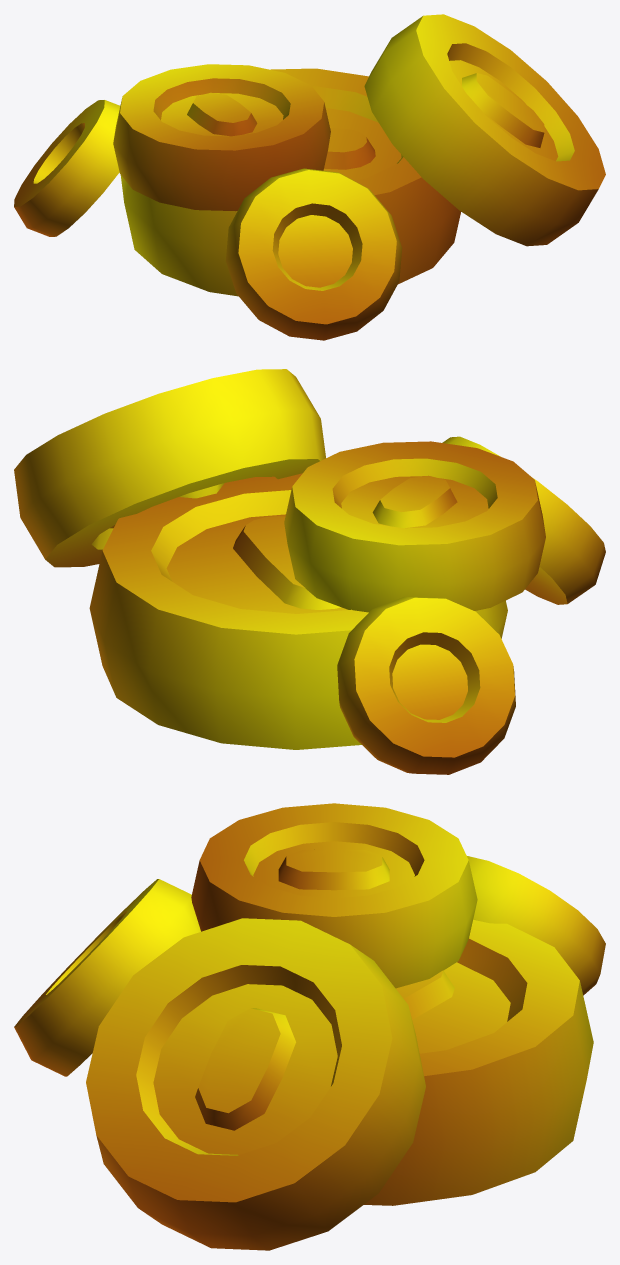
The model's file is Gold_Coin_05.glb.
The picture shows the model from 3 angles, top to bottom: view 1: azimuth 30°, elevation 25°; view 2: azimuth 150°, elevation 25°; view 3: azimuth 270°, elevation 25°; orthographic projection. The views are drawn at different scales.
Parts seen in each view (by area): view 1: Gold_Coin_05; view 2: Gold_Coin_05; view 3: Gold_Coin_05.
Boxes of the visible parts, x1,y1,x2,y2 form: Gold_Coin_05: [14, 14, 605, 340]; Gold_Coin_05: [14, 369, 605, 774]; Gold_Coin_05: [14, 803, 605, 1250].
Bounding box in the file's own units: 0.7713 × 0.3086 × 0.6324.
Materials: 1 (1 with a texture image).
